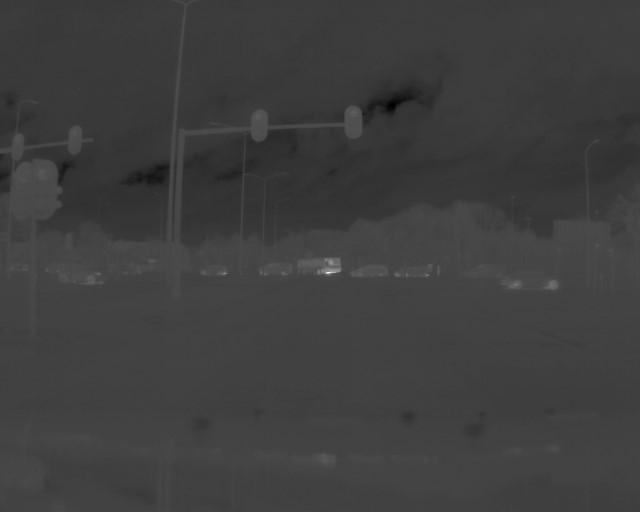car: (500, 264, 563, 294), (295, 252, 343, 277), (395, 262, 443, 281), (349, 259, 390, 281), (259, 253, 292, 276), (199, 262, 231, 278)
